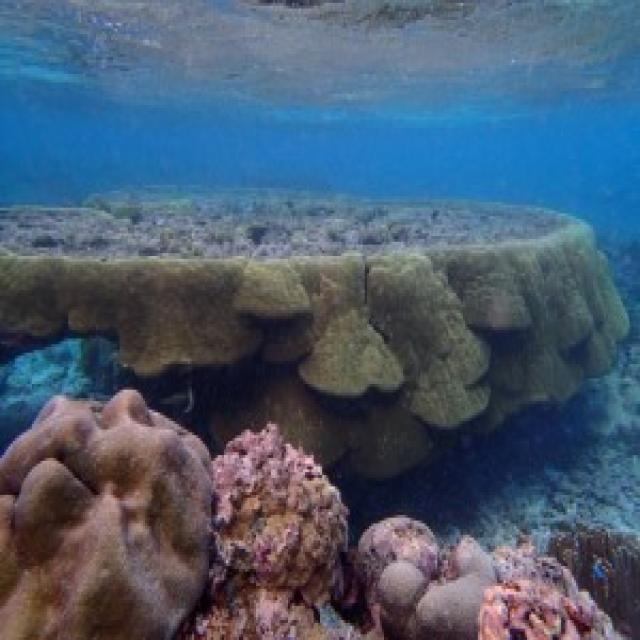Healthy: (1, 391, 212, 638), (180, 425, 349, 638), (479, 544, 600, 638), (549, 522, 639, 638), (362, 516, 438, 598), (411, 573, 492, 638), (381, 561, 428, 638), (449, 536, 494, 578)
